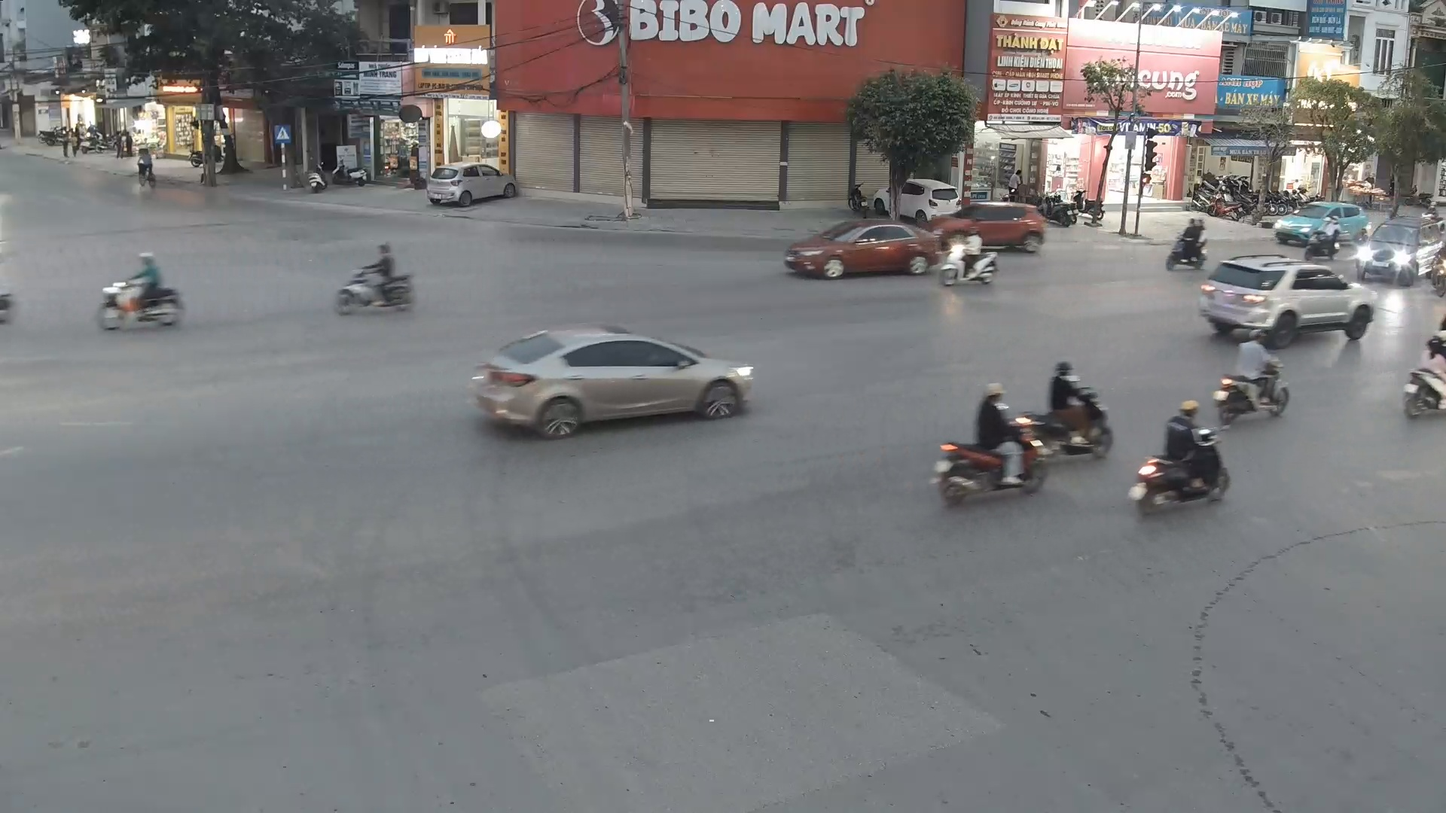car: (467, 323, 756, 438), (1196, 252, 1375, 347), (783, 218, 940, 280), (425, 162, 521, 210)
motorbike: (932, 382, 1048, 508), (1128, 399, 1234, 517), (1015, 358, 1118, 462), (93, 250, 188, 333), (1212, 330, 1294, 426), (331, 239, 418, 317), (1400, 334, 1445, 420), (939, 226, 1000, 288)
